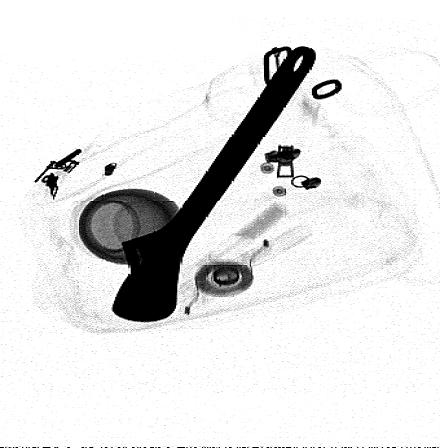Wrench: (111, 43, 322, 321)
